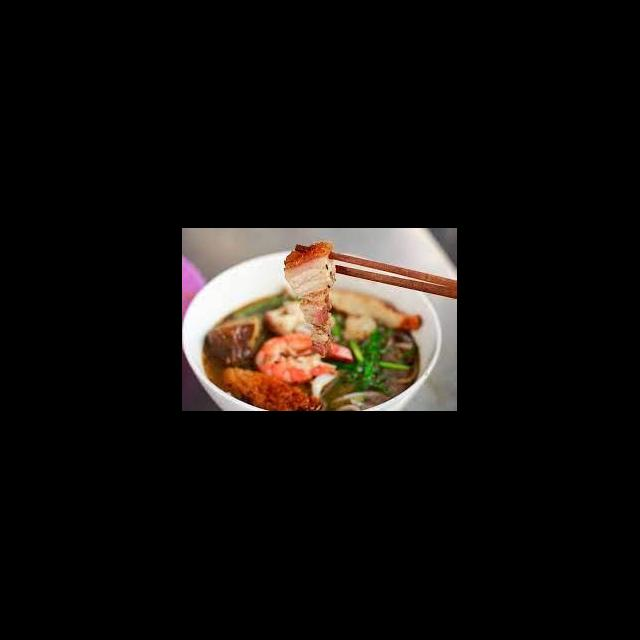thit heo quay: (282, 238, 342, 362)
tom: (252, 328, 356, 388)
